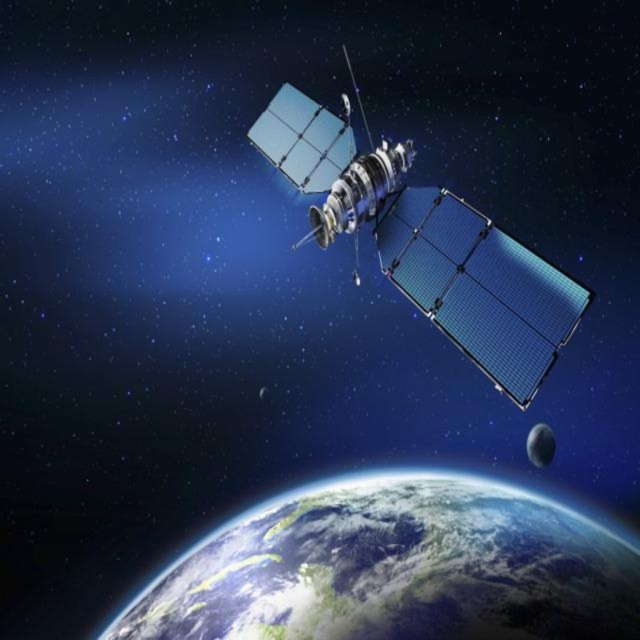large_debris: (253, 382, 275, 405)
satellite: (240, 43, 596, 414)
